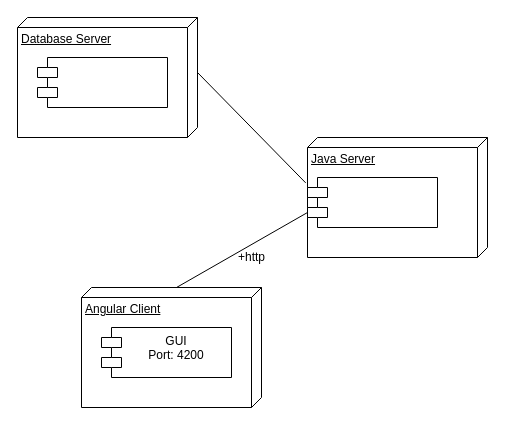
The diagram is 505 pixels wide and 425 high, and some of its shapes have lost their labels. Each missing label, with the centre of its shape:
"MySQL Database Port: 3306" goes at point 102,82.
"Services Port: 8080" goes at point 372,202.
